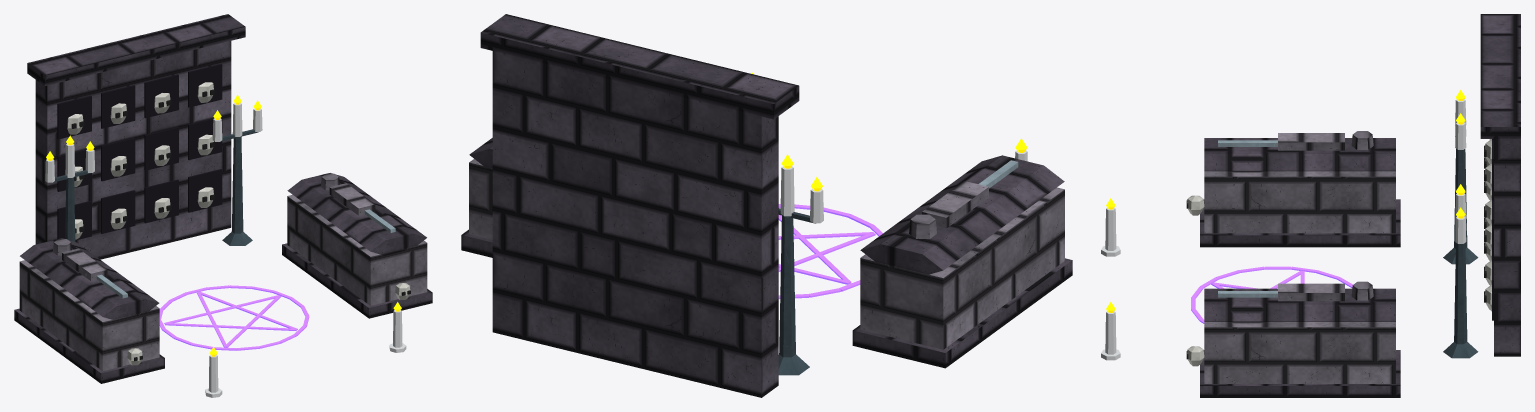
The model's file is crypt_0.glb.
3 renders of one model, left to right at view 1: azimuth 30°, elevation 25°; view 2: azimuth 150°, elevation 25°; view 3: azimuth 270°, elevation 25°, orthographic. The views are drawn at different scales.
Visible parts, largest first — view 1: base_mesh; view 2: base_mesh; view 3: base_mesh.
Boxes of the visible parts, x1=… form: base_mesh: x1=14, y1=14, x2=432, y2=397; base_mesh: x1=461, y1=14, x2=1072, y2=397; base_mesh: x1=1101, y1=14, x2=1520, y2=397.
Bounding box in the file's own units: 1.98 × 1.16 × 1.88.
13 materials, 6 textured.
